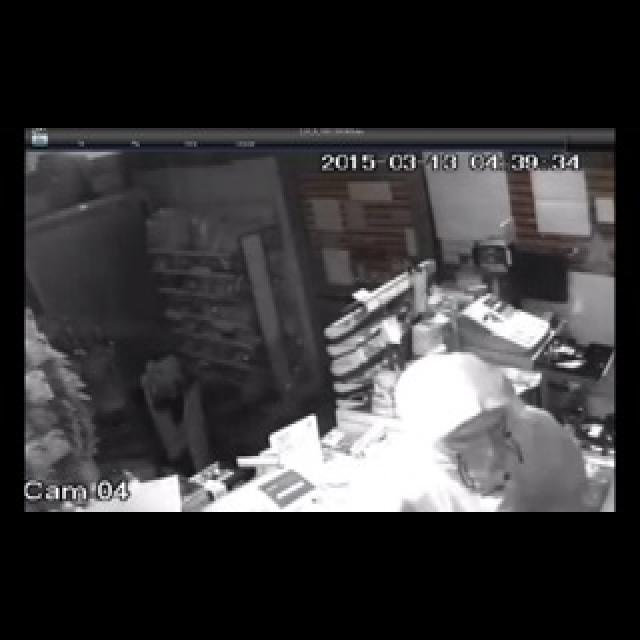thief: (356, 339, 596, 524)
